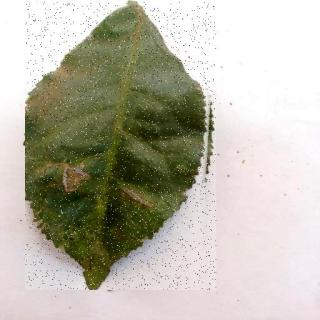Algal Leaf: (26, 3, 217, 291)
